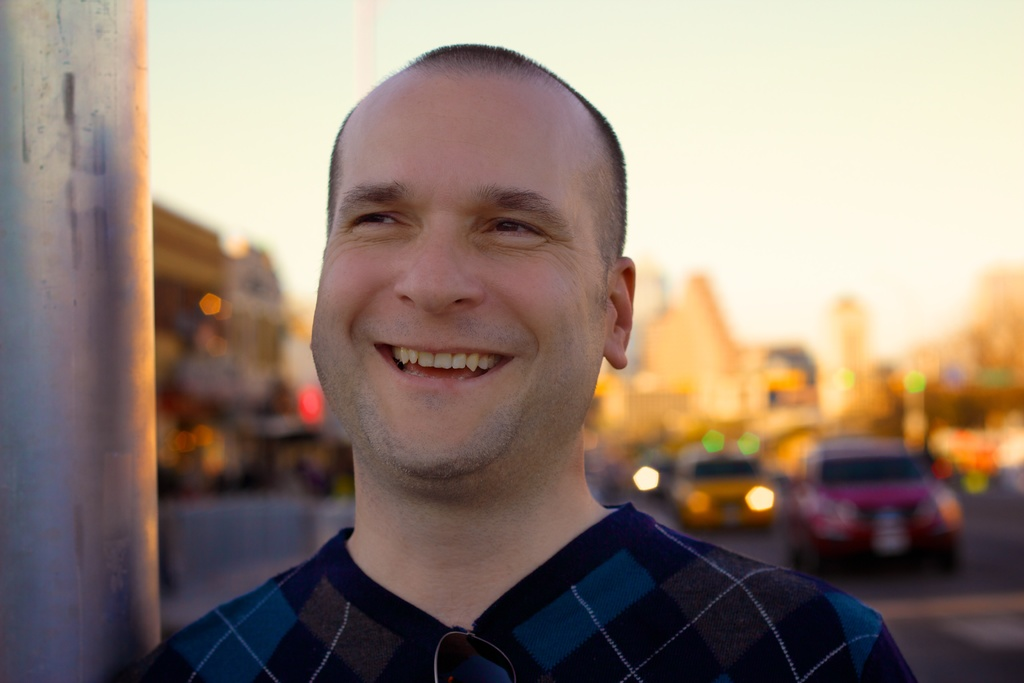Car: (781, 441, 973, 581), (670, 449, 776, 531)
